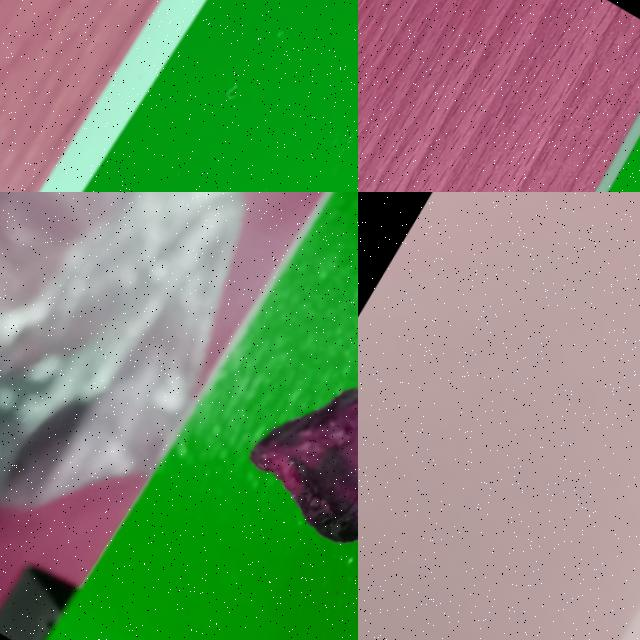Flat_cocoabeans: (120, 238, 357, 639)
